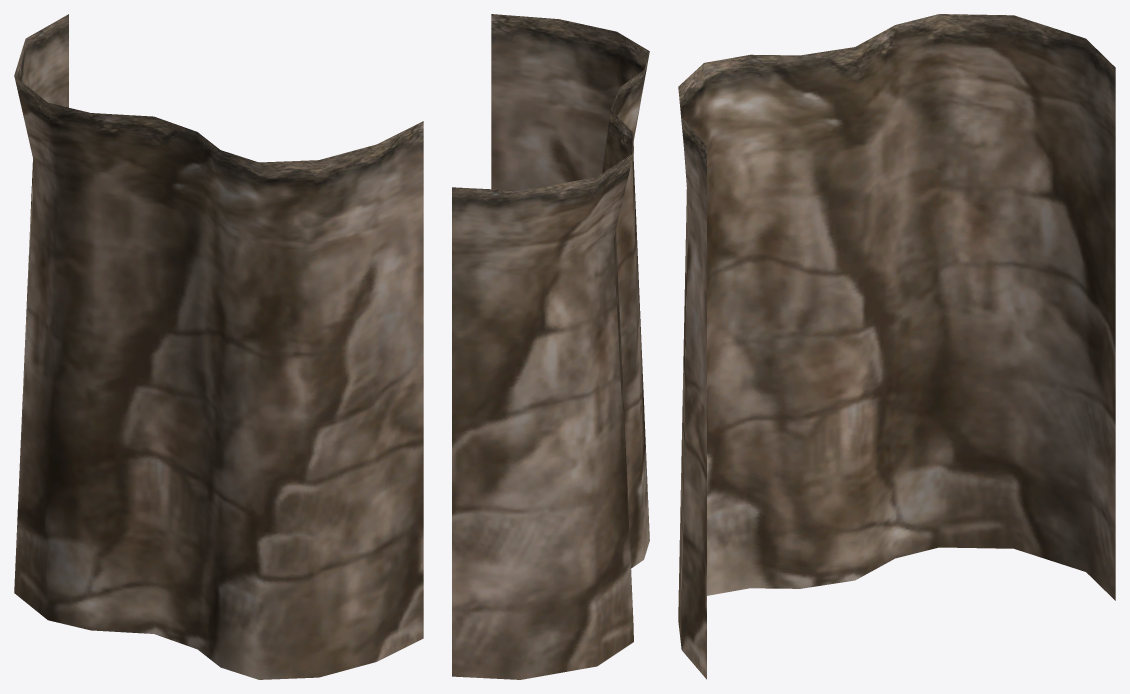
File: OVERHILL_A_01_LINE86.fbx
3 renders of one model, left to right at view 1: azimuth 30°, elevation 25°; view 2: azimuth 150°, elevation 25°; view 3: azimuth 270°, elevation 25°, orthographic. The views are drawn at different scales.
Visible parts, largest first — view 1: OVERHILL_A_01_LINE86; view 2: OVERHILL_A_01_LINE86; view 3: OVERHILL_A_01_LINE86.
Part boxes in pixels (bbox=[...]): OVERHILL_A_01_LINE86: bbox=[14, 14, 423, 679]; OVERHILL_A_01_LINE86: bbox=[452, 14, 649, 679]; OVERHILL_A_01_LINE86: bbox=[678, 14, 1115, 679].
Bounding box in the file's own units: 25430 × 47754 × 35494.
2 materials, 2 textured.
